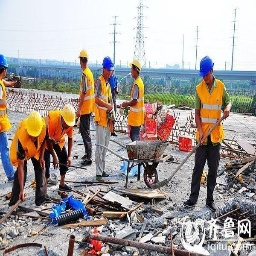helmet: (198, 55, 216, 85), (26, 110, 43, 137), (63, 103, 77, 128), (101, 55, 114, 74), (129, 60, 143, 77), (79, 49, 90, 65)
person: (191, 53, 223, 211), (12, 111, 49, 209), (96, 56, 117, 181), (49, 107, 76, 198), (76, 49, 96, 168), (125, 61, 146, 142)
vest: (199, 85, 224, 144), (97, 78, 113, 130), (79, 68, 95, 115), (131, 80, 145, 128), (0, 82, 10, 133)
